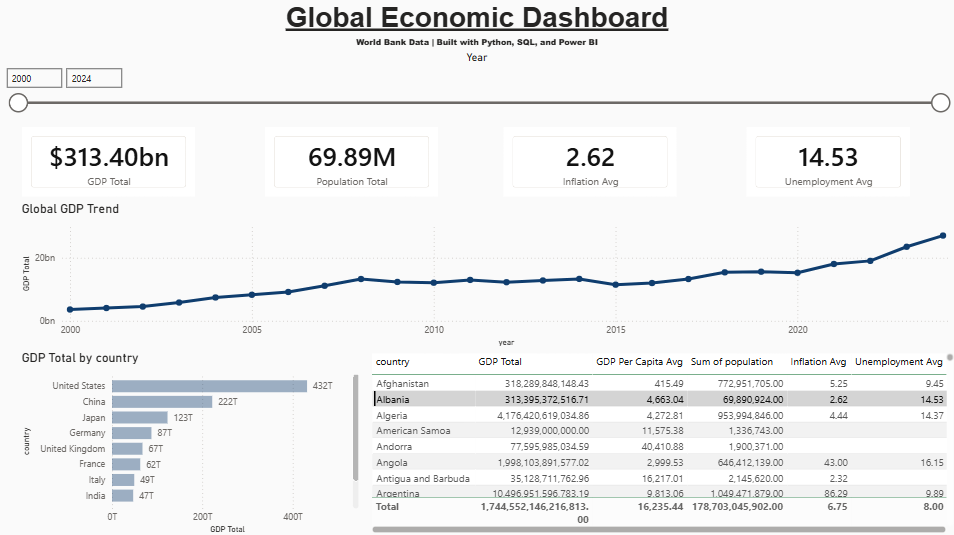

Layout of this report page (visuals, bound fields, positions):
{"tool":"powerbi","page":{"name":"Page 1","canvas":[1280,720],"ordinal":0},"visuals":[{"type":"slicer","title":"Year","fields":{"Values":["fact_country_economics.year"]},"box":[0,71.8,1279.4,96.4],"z":0},{"type":"cardVisual","fields":{"Data":["Table.Inflation Avg"]},"box":[670.9,168.2,241.9,103.9],"z":1000},{"type":"cardVisual","fields":{"Data":["Table.Unemployment Avg"]},"box":[994,168.2,228.7,103.9],"z":2000},{"type":"cardVisual","fields":{"Data":["Table.GDP Total"]},"box":[28.3,168.2,241.9,103.9],"z":3000},{"type":"cardVisual","fields":{"Data":["Table.Population Total"]},"box":[351.5,168.2,241.9,103.9],"z":4000},{"type":"lineChart","title":"Global GDP Trend","fields":{"Category":["fact_country_economics.year"],"Y":["Table.GDP Total"]},"box":[28.3,272.1,1251,198.4],"z":5000},{"type":"clusteredBarChart","fields":{"Category":["fact_country_economics.country"],"Y":["Table.GDP Total"]},"box":[28.3,470.6,459.2,249.5],"z":6000},{"type":"tableEx","fields":{"Values":["fact_country_economics.country","Table.GDP Total","Table.GDP Per Capita Avg","Sum(fact_country_economics.population)","Table.Inflation Avg","Table.Unemployment Avg"]},"box":[493.2,470.6,786.1,249.5],"z":7000},{"type":"textbox","box":[28.3,0,1251,73.7],"z":8000}]}

Visuals, with their boxes in screenshot pixels (x1, y1, x2, y2), scaled from the page's 1280x720 canvas onto the 954x535 screenshot:
"Year" slicer: 0, 53, 953, 125
cardVisual - Table.Inflation Avg: 500, 125, 680, 202
cardVisual - Table.Unemployment Avg: 741, 125, 911, 202
cardVisual - Table.GDP Total: 21, 125, 201, 202
cardVisual - Table.Population Total: 262, 125, 442, 202
"Global GDP Trend" lineChart: 21, 202, 953, 350
clusteredBarChart - fact_country_economics.country x Table.GDP Total: 21, 350, 363, 534
tableEx - fact_country_economics.country x Table.GDP Total: 368, 350, 953, 534
textbox: 21, 0, 953, 55
